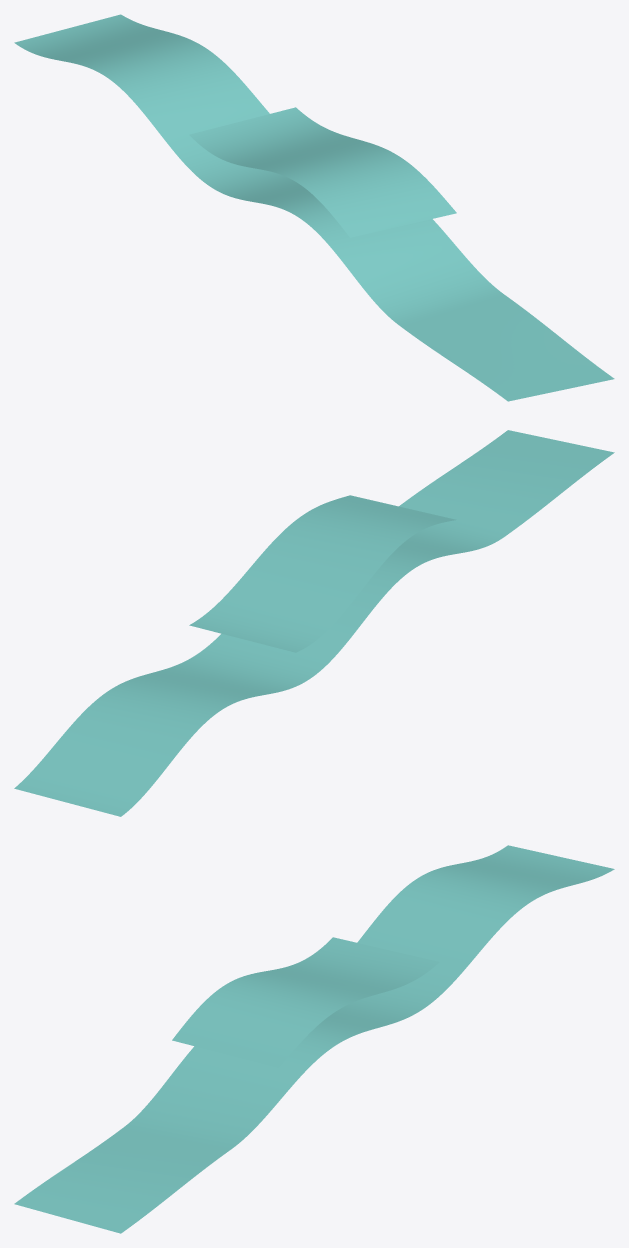
The model's file is glide-gallery.glb.
The picture shows the model from 3 angles, top to bottom: view 1: azimuth 30°, elevation 25°; view 2: azimuth 150°, elevation 25°; view 3: azimuth 330°, elevation 25°; orthographic projection.
Visible parts, largest first — view 1: glide-gallery; view 2: glide-gallery; view 3: glide-gallery.
Boxes of the visible parts, <box> form: glide-gallery: <box>14,14,614,401</box>; glide-gallery: <box>14,430,614,816</box>; glide-gallery: <box>14,845,614,1233</box>.
Bounding box in the file's own units: 36 × 22.03 × 288.
